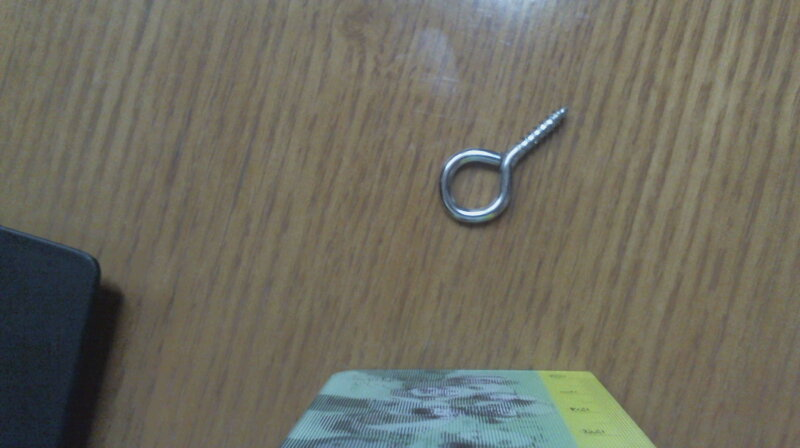O001: (435, 101, 571, 228)
